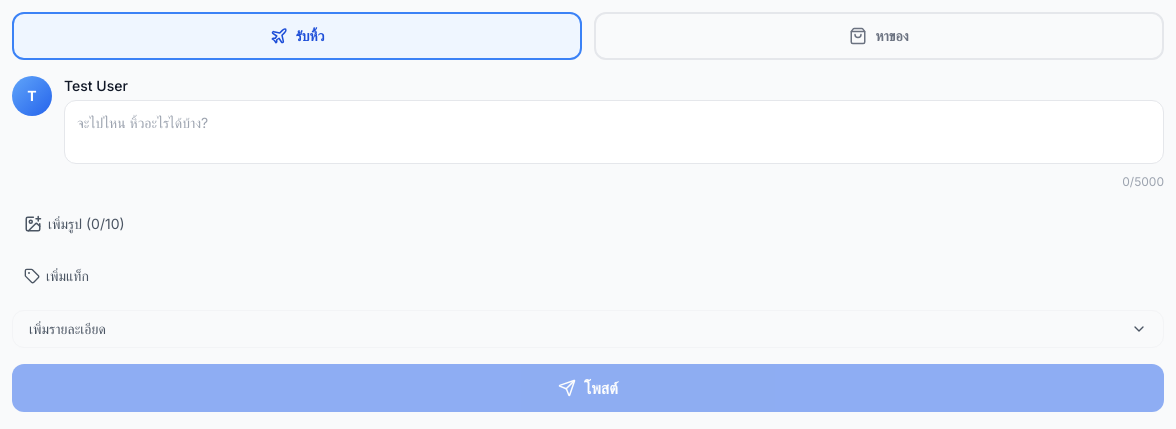
Test: CreatePostForm › shows character count
Expected: the text "0/5000" is shown, [1122, 174, 1164, 189]
Type "Hello" into the text box at (614,132), box [64, 100, 1164, 164]
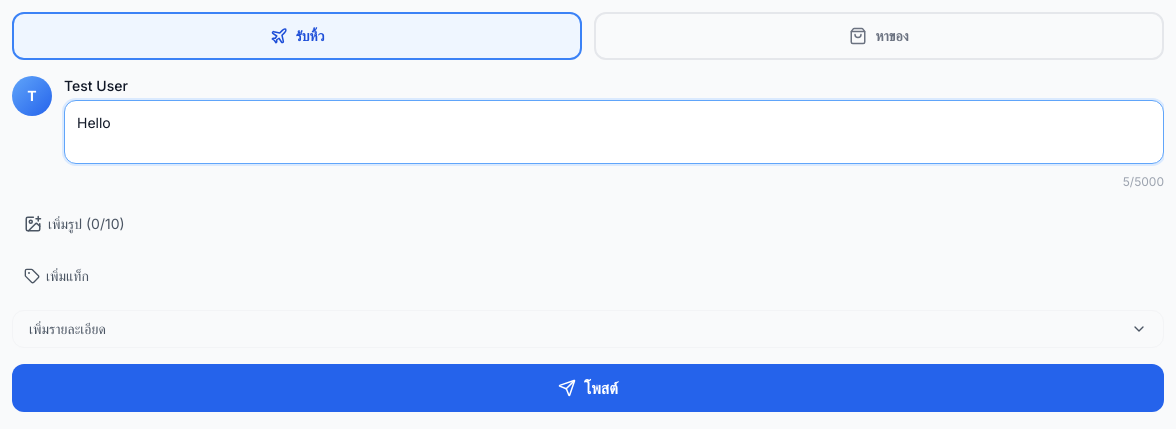
Expected: the text "5/5000" is shown, [1123, 174, 1164, 189]
